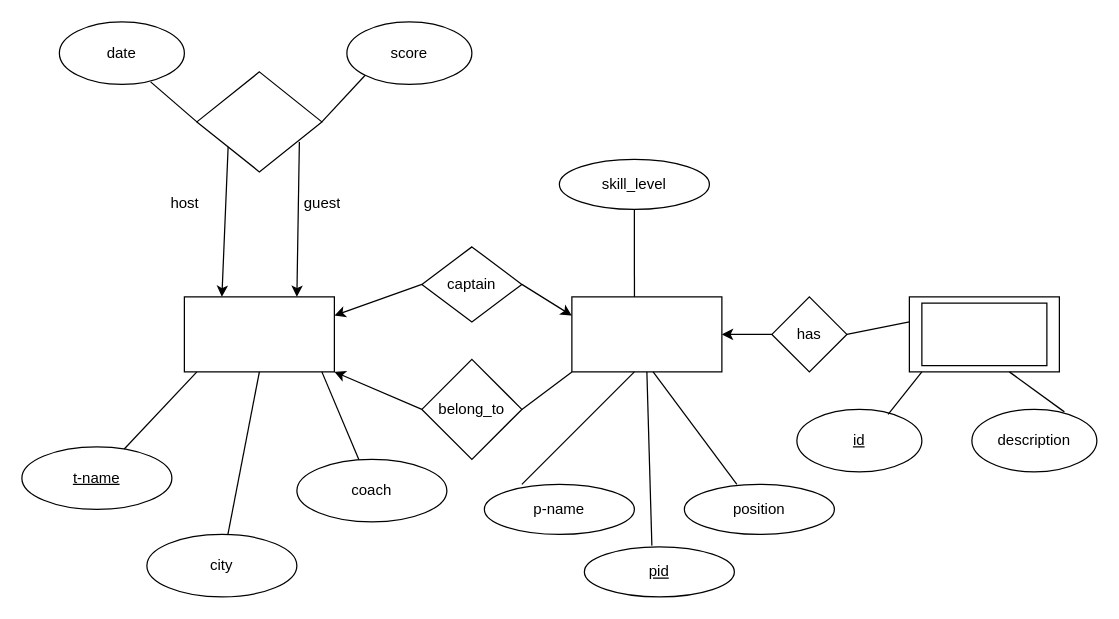
This 1119x619 diagram has some shape labels left out. Each missing label, with the centre of its shape:
game_played: the point at 259,121
injury records: the point at 984,334
player: the point at 646,334
team: the point at 258,334
